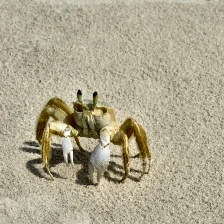crab: (25, 91, 121, 187)
